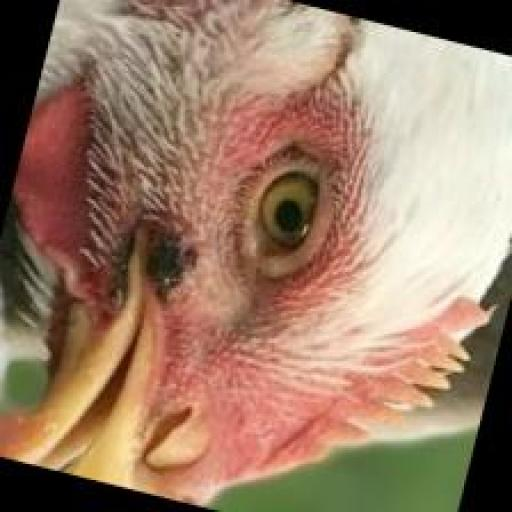disease: (112, 181, 257, 383)
